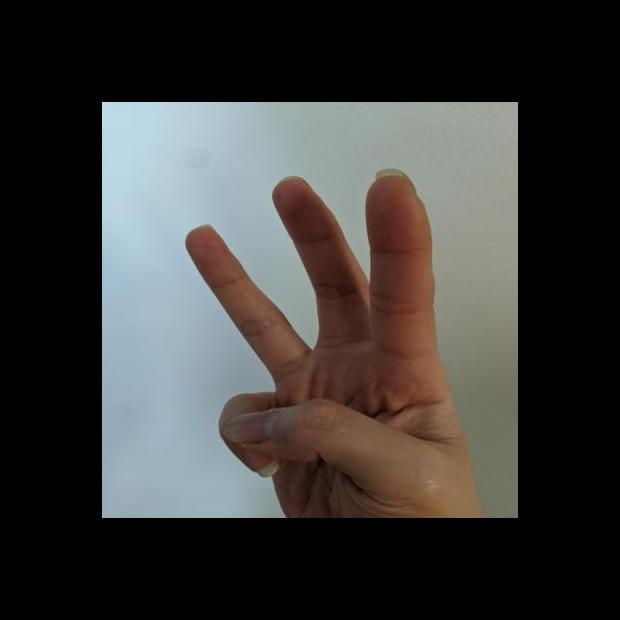V: (177, 163, 488, 517)
